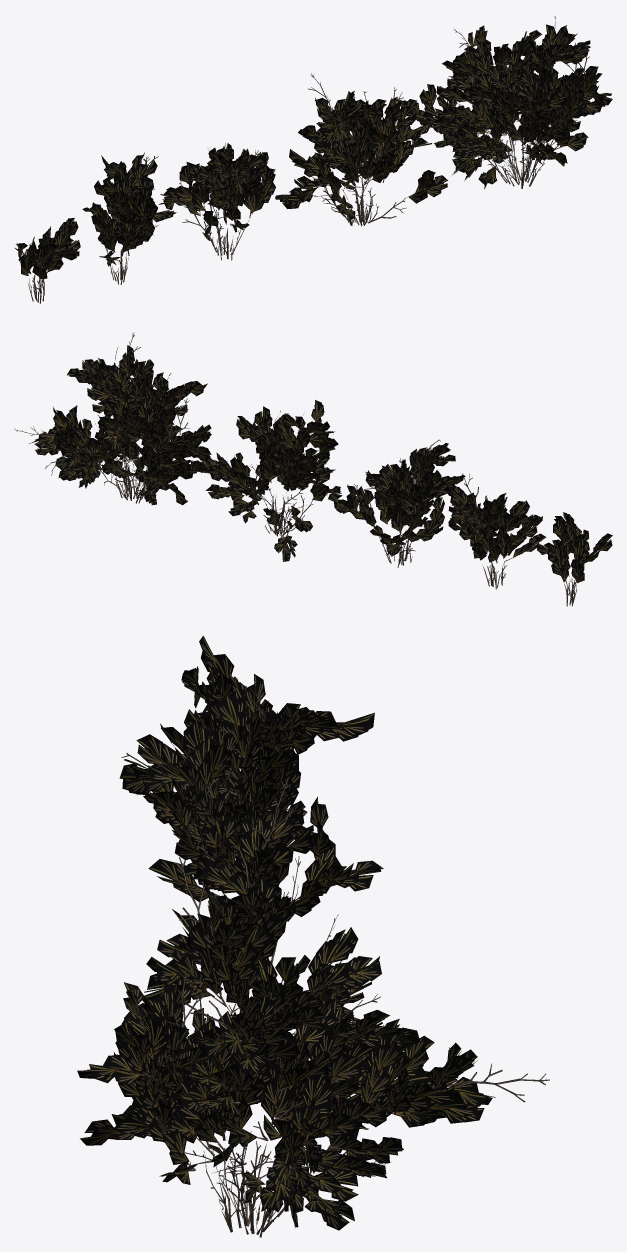
File: wild_rooibos_bush.gltf
3 renders of one model, top to bottom at view 1: azimuth 30°, elevation 25°; view 2: azimuth 150°, elevation 25°; view 3: azimuth 270°, elevation 25°, orthographic. The views are drawn at different scales.
Visible parts, largest first — view 1: wild_rooibos_bush_a, wild_rooibos_bush_b, wild_rooibos_bush_c, wild_rooibos_bush_d, wild_rooibos_bush_e; view 2: wild_rooibos_bush_a, wild_rooibos_bush_b, wild_rooibos_bush_c, wild_rooibos_bush_d, wild_rooibos_bush_e; view 3: wild_rooibos_bush_a, wild_rooibos_bush_b, wild_rooibos_bush_c, wild_rooibos_bush_d, wild_rooibos_bush_e.
Part boxes in pixels (box(x1,y1,x2,y2)): wild_rooibos_bush_a: box(397, 16, 612, 189); wild_rooibos_bush_b: box(275, 73, 447, 226); wild_rooibos_bush_c: box(158, 143, 275, 260); wild_rooibos_bush_d: box(82, 152, 176, 284); wild_rooibos_bush_e: box(14, 218, 80, 303); wild_rooibos_bush_a: box(14, 332, 218, 505); wild_rooibos_bush_b: box(201, 400, 342, 561); wild_rooibos_bush_c: box(328, 439, 465, 567); wild_rooibos_bush_d: box(445, 473, 546, 589); wild_rooibos_bush_e: box(537, 512, 612, 606); wild_rooibos_bush_a: box(77, 958, 549, 1237); wild_rooibos_bush_b: box(138, 778, 381, 1038); wild_rooibos_bush_c: box(119, 718, 383, 963); wild_rooibos_bush_d: box(160, 674, 374, 810); wild_rooibos_bush_e: box(181, 635, 272, 755).
Bounding box in the file's own units: 2.28 × 0.5413 × 0.8434.
3 materials, 3 textured.
